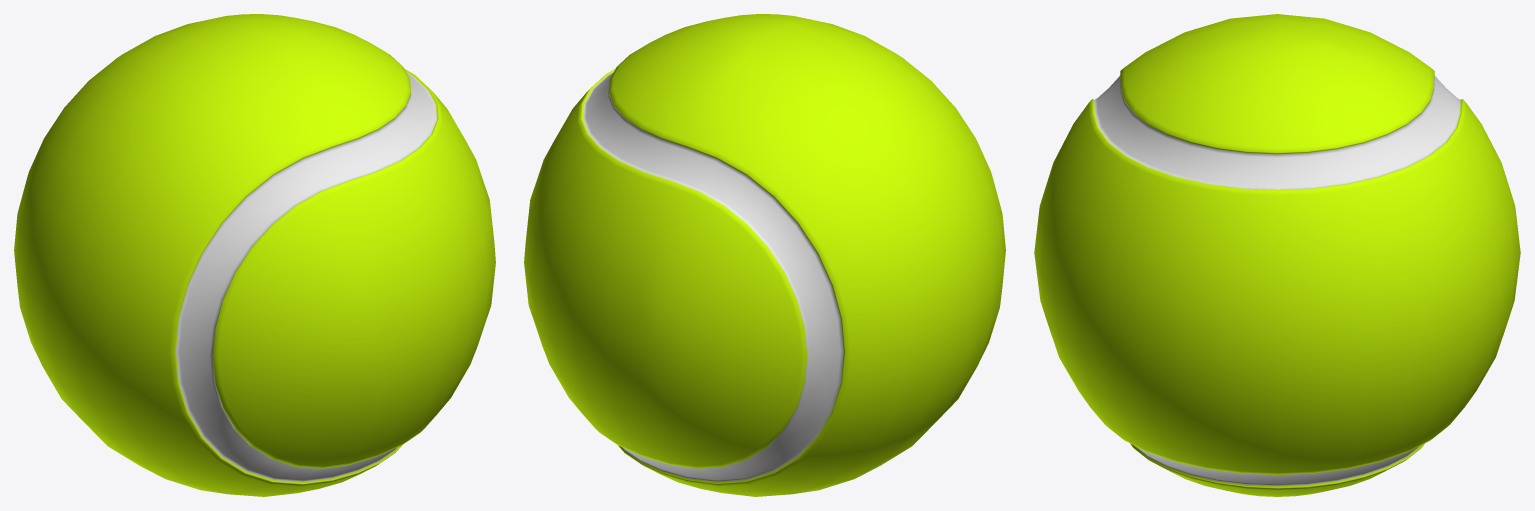
Rendered from ball.glb.
The picture shows the model from 3 angles, left to right: view 1: azimuth 30°, elevation 25°; view 2: azimuth 150°, elevation 25°; view 3: azimuth 270°, elevation 25°; orthographic projection.
Parts seen in each view (by area): view 1: low poly; view 2: low poly; view 3: low poly.
Part boxes in pixels (<box>): low poly: <box>14,14,495,496</box>; low poly: <box>524,14,1005,496</box>; low poly: <box>1034,14,1520,496</box>.
Size of the model in its own units: 1.97 by 1.99 by 1.99.
